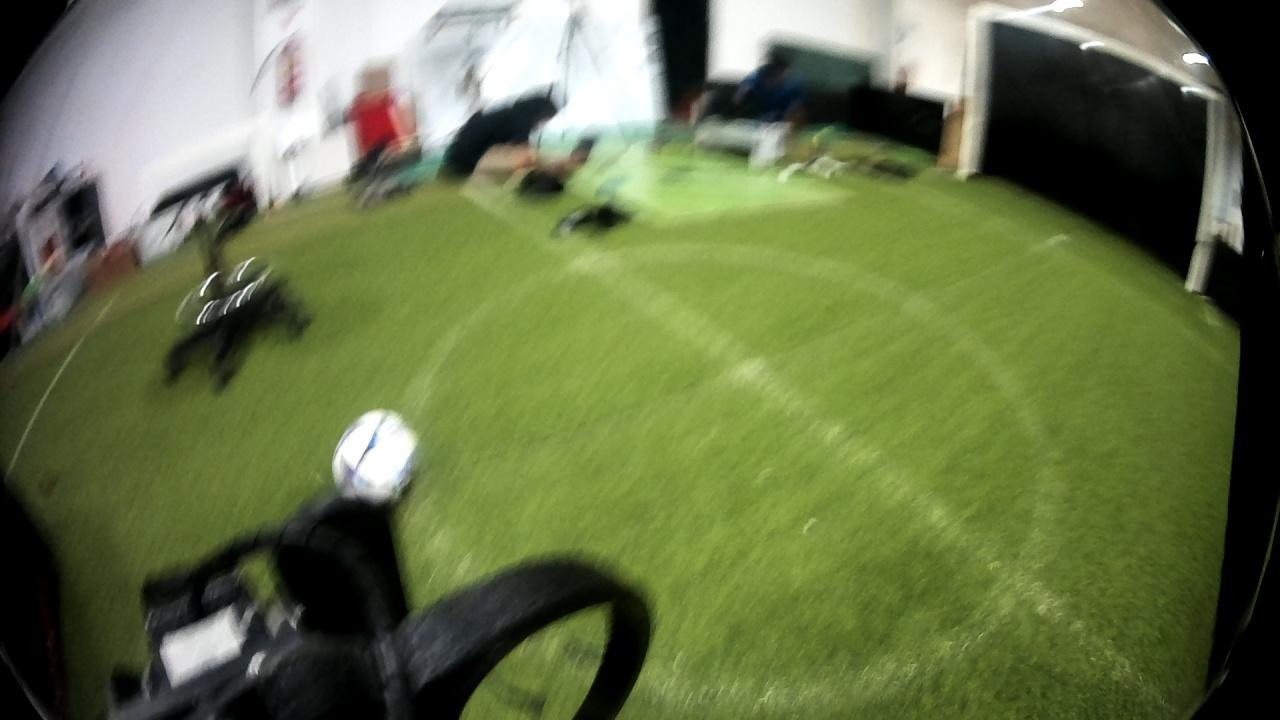ball: (323, 403, 427, 512)
